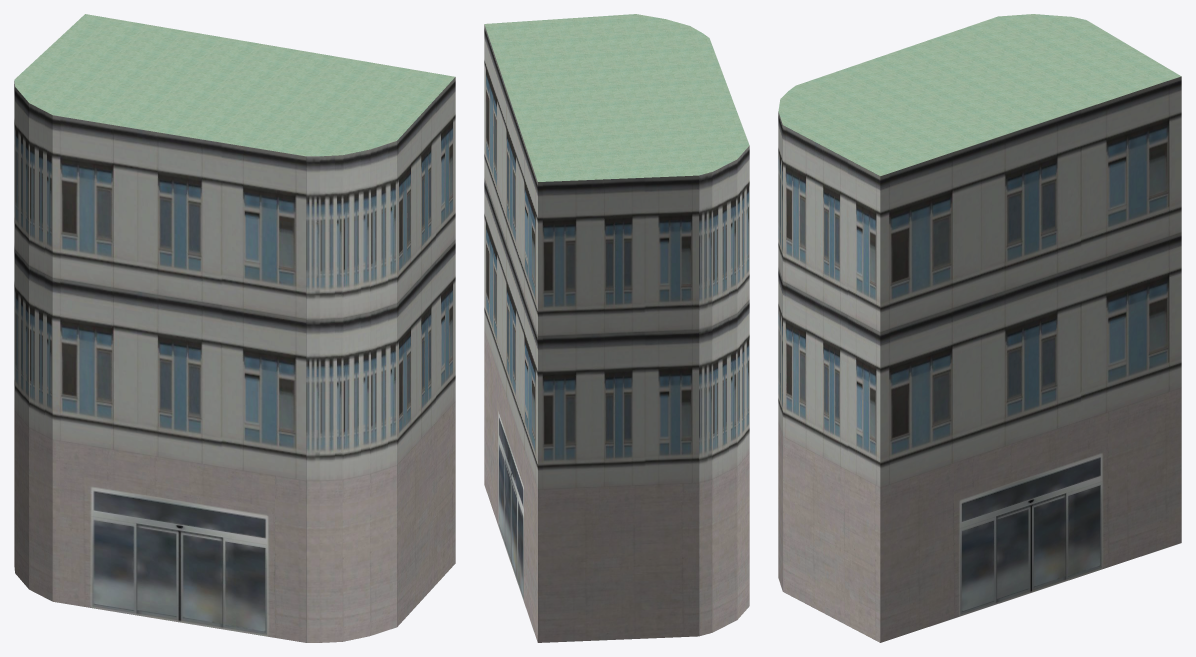
3 renders of one model, left to right at view 1: azimuth 30°, elevation 25°; view 2: azimuth 150°, elevation 25°; view 3: azimuth 270°, elevation 25°, orthographic. The views are drawn at different scales.
Parts seen in each view (by area): view 1: BuildingMaster_0000193852424462651200000000_0, BuildingMaster_0000193852424462651200000000_1; view 2: BuildingMaster_0000193852424462651200000000_0, BuildingMaster_0000193852424462651200000000_1; view 3: BuildingMaster_0000193852424462651200000000_0, BuildingMaster_0000193852424462651200000000_1.
Boxes of the visible parts, box(x1,y1,x2,y2) form: BuildingMaster_0000193852424462651200000000_0: box(14, 77, 455, 642); BuildingMaster_0000193852424462651200000000_1: box(14, 14, 455, 156); BuildingMaster_0000193852424462651200000000_0: box(484, 24, 749, 642); BuildingMaster_0000193852424462651200000000_1: box(484, 14, 749, 181); BuildingMaster_0000193852424462651200000000_0: box(778, 76, 1181, 642); BuildingMaster_0000193852424462651200000000_1: box(778, 14, 1181, 175).
Bounding box in the file's own units: 7.83 × 10.5 × 8.22.
2 materials, 2 textured.
